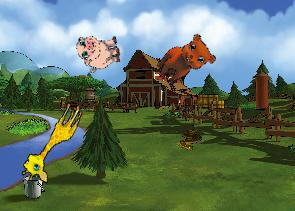bear: (151, 27, 220, 97)
giraffe: (17, 94, 86, 188)
pig: (74, 28, 123, 74)
